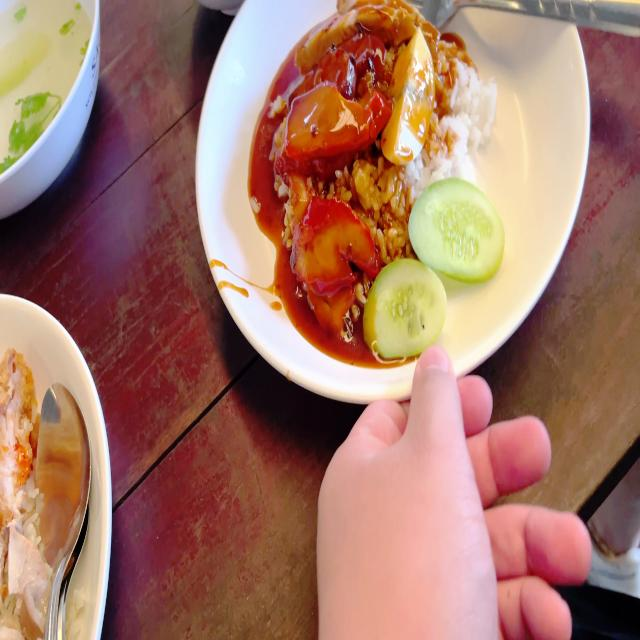boiled_chicken: (0, 530, 50, 636)
boiled_egg: (383, 27, 435, 160)
chainese_sausage: (303, 41, 375, 93)
chicken_rice: (0, 349, 65, 639)
crispy_pork: (301, 0, 426, 40)
cucumber: (406, 180, 506, 278), (370, 258, 447, 354)
fried_chicken: (0, 339, 37, 515)
red_pork: (284, 187, 373, 318), (284, 87, 384, 160)
red_pork_and_crispy_pork: (277, 0, 505, 359)
